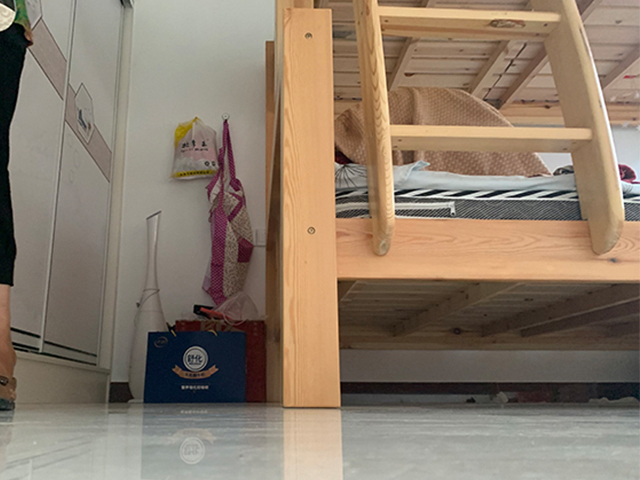bed: (262, 1, 640, 409)
cabinet: (10, 1, 132, 405)
